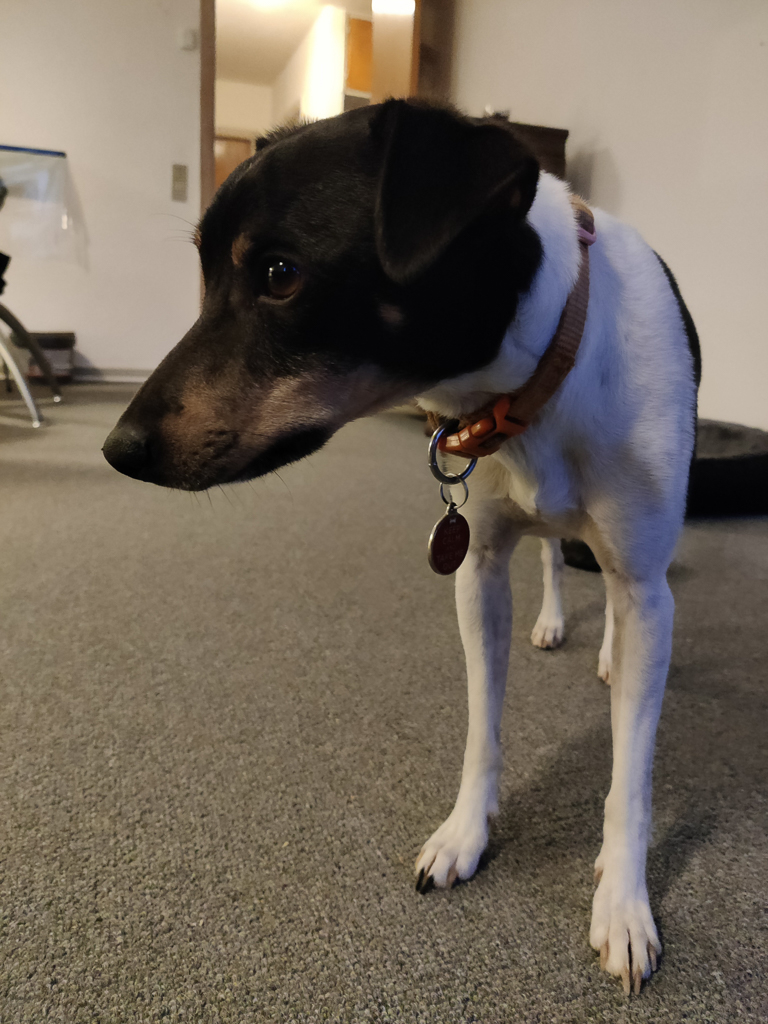Dog: (84, 79, 712, 1003)
